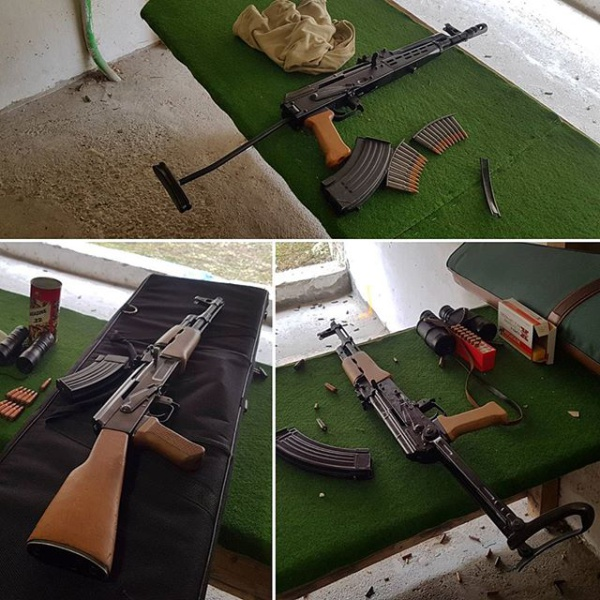ak47: (155, 22, 489, 214), (325, 318, 577, 547), (30, 298, 228, 577)
